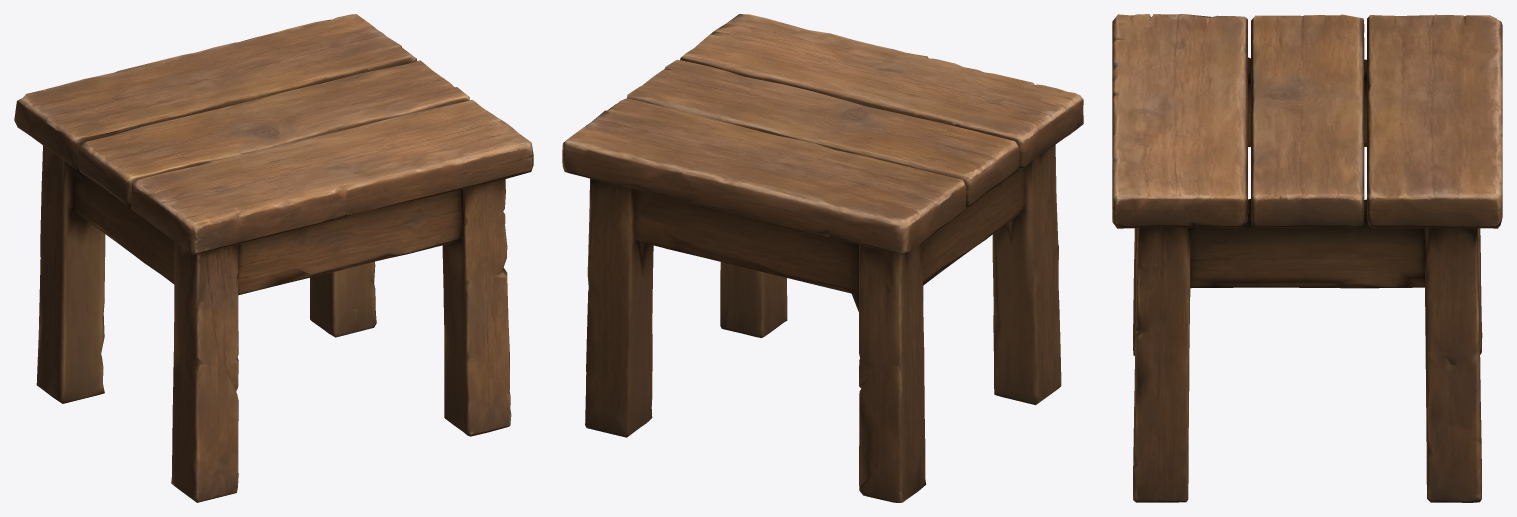
Rendered from library-side-table.glb.
3 views of the same model, side by side, from view 1: azimuth 30°, elevation 25°; view 2: azimuth 150°, elevation 25°; view 3: azimuth 270°, elevation 25° (orthographic). The views are drawn at different scales.
Parts seen in each view (by area): view 1: library-side-table; view 2: library-side-table; view 3: library-side-table.
Part boxes in pixels (x1,y1,x2,y2): library-side-table: (14, 14, 533, 502); library-side-table: (562, 14, 1083, 502); library-side-table: (1112, 14, 1502, 502).
Size of the model in its own units: 0.684 by 0.55 by 0.6162.
Materials: 1 (1 with a texture image).
